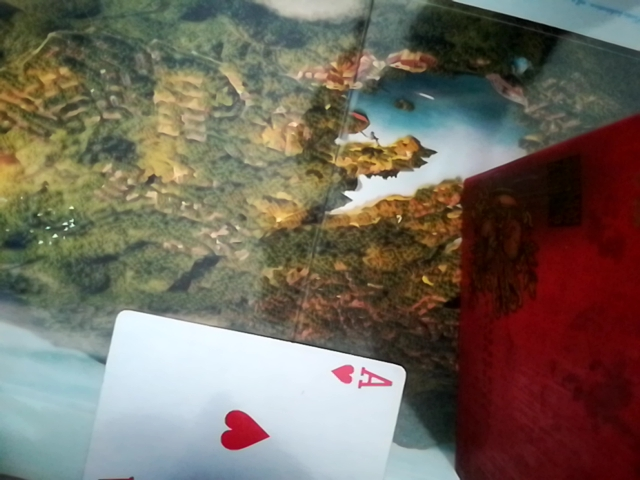hx a: (71, 315, 418, 480)
